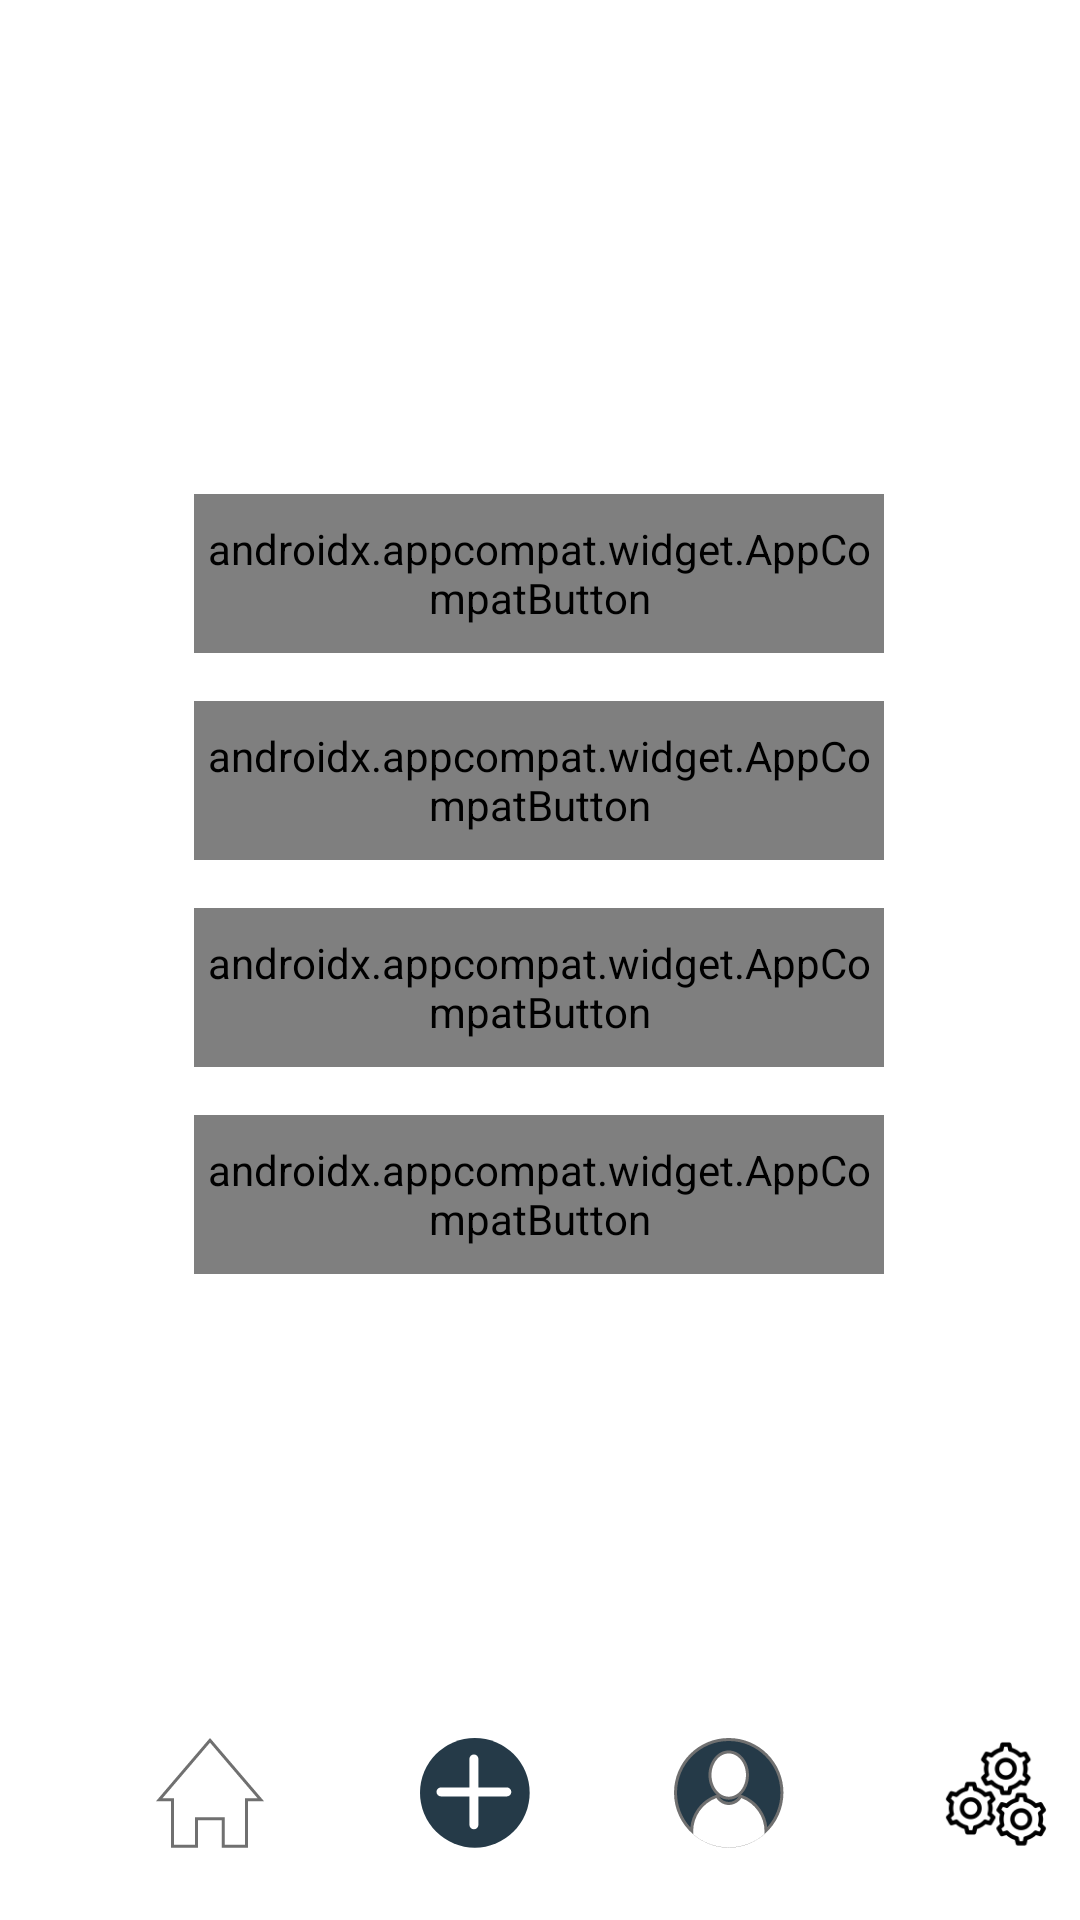

Point at icon controls on the screen. Image size 1080 × 1920, points as point (x, y).
add: point (475, 1793)
home: point (210, 1793)
profile: point (729, 1793)
settings: point (995, 1794)
